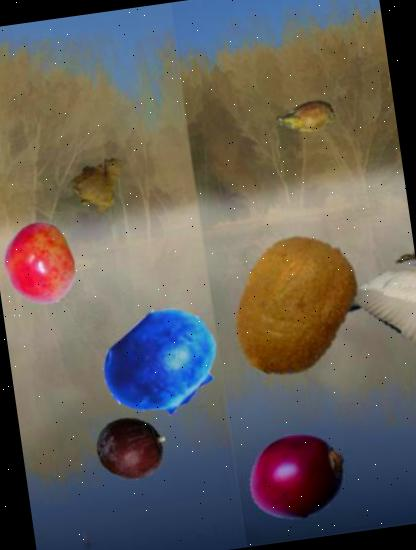Cactus: (271, 84, 339, 152)
Cherry: (0, 217, 87, 313)
Ginger: (69, 150, 136, 218)
Huckleberry: (96, 298, 228, 430)
Kiwi: (210, 221, 376, 387)
Plum: (92, 409, 171, 488)
Tamarillo: (240, 420, 354, 534)
